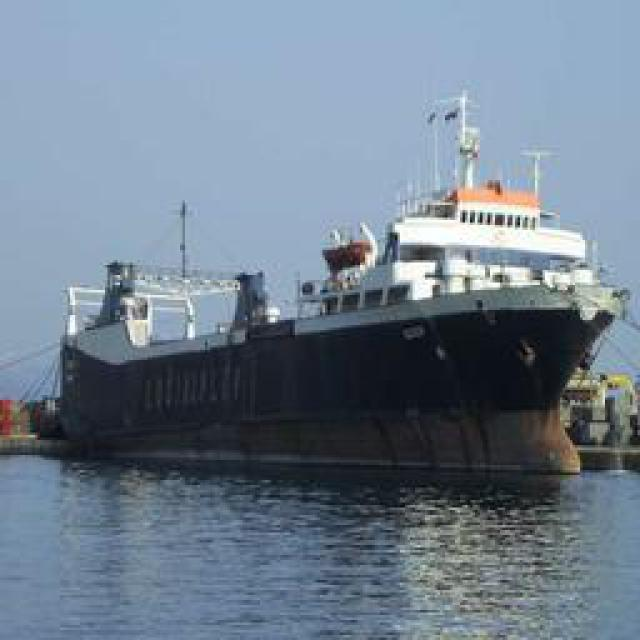Ship: (49, 73, 612, 471)
